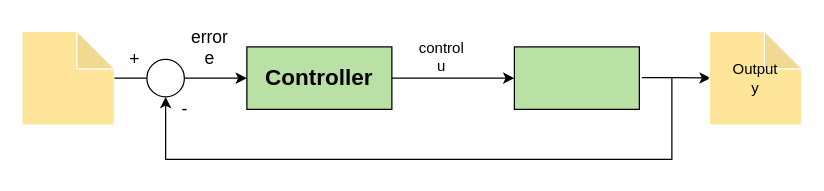
This 824x191 diagram has some shape labels left out. The shapes that lost their labels are listed below. From the top down, each one's centre as x and y in pixels, then its label:
At [67,77]: "Reference input r".
At [576,77]: "Plant".
